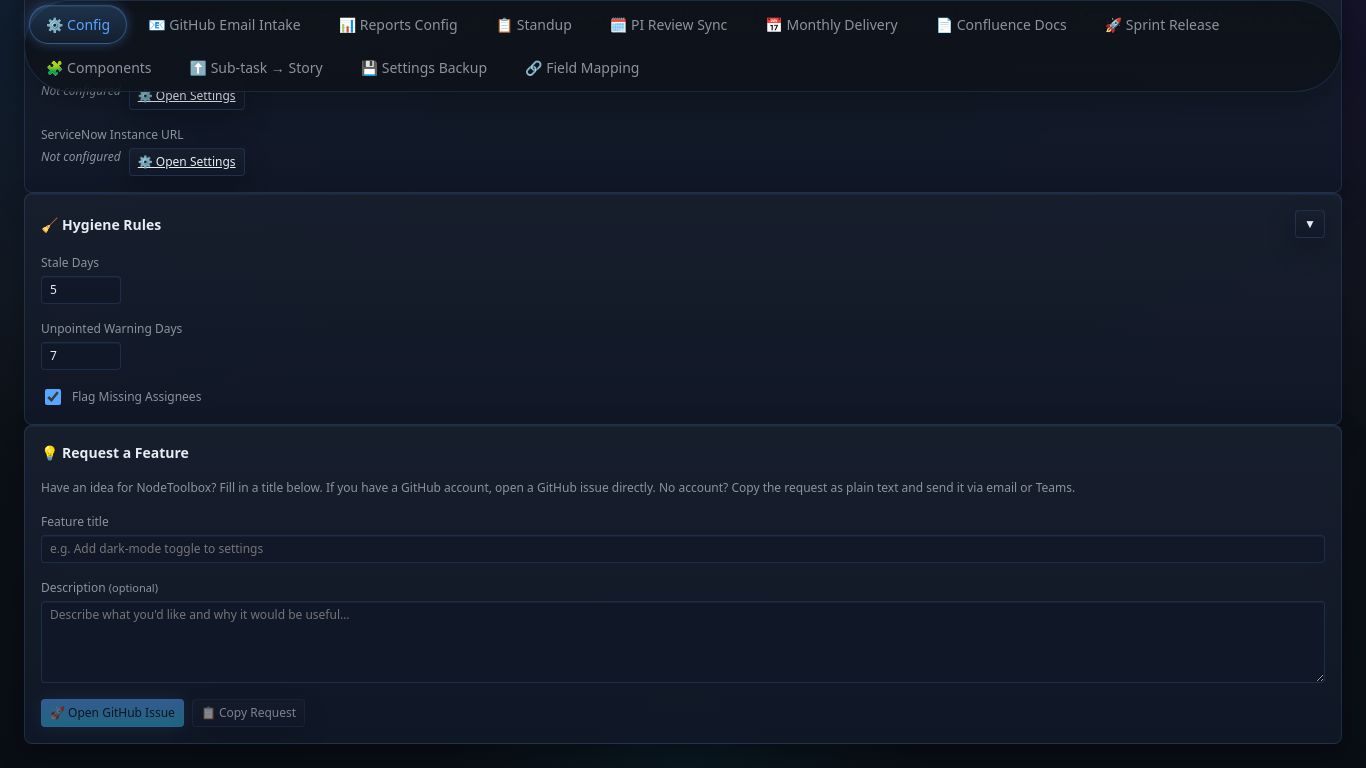
Scenario: Feature Request section › enables both buttons when the title has content
The image size is (1366, 768).
(page scrolled)
Type "Add dark mode" into the field labelled "Feature title" at [683, 549], box [41,535,1325,563]
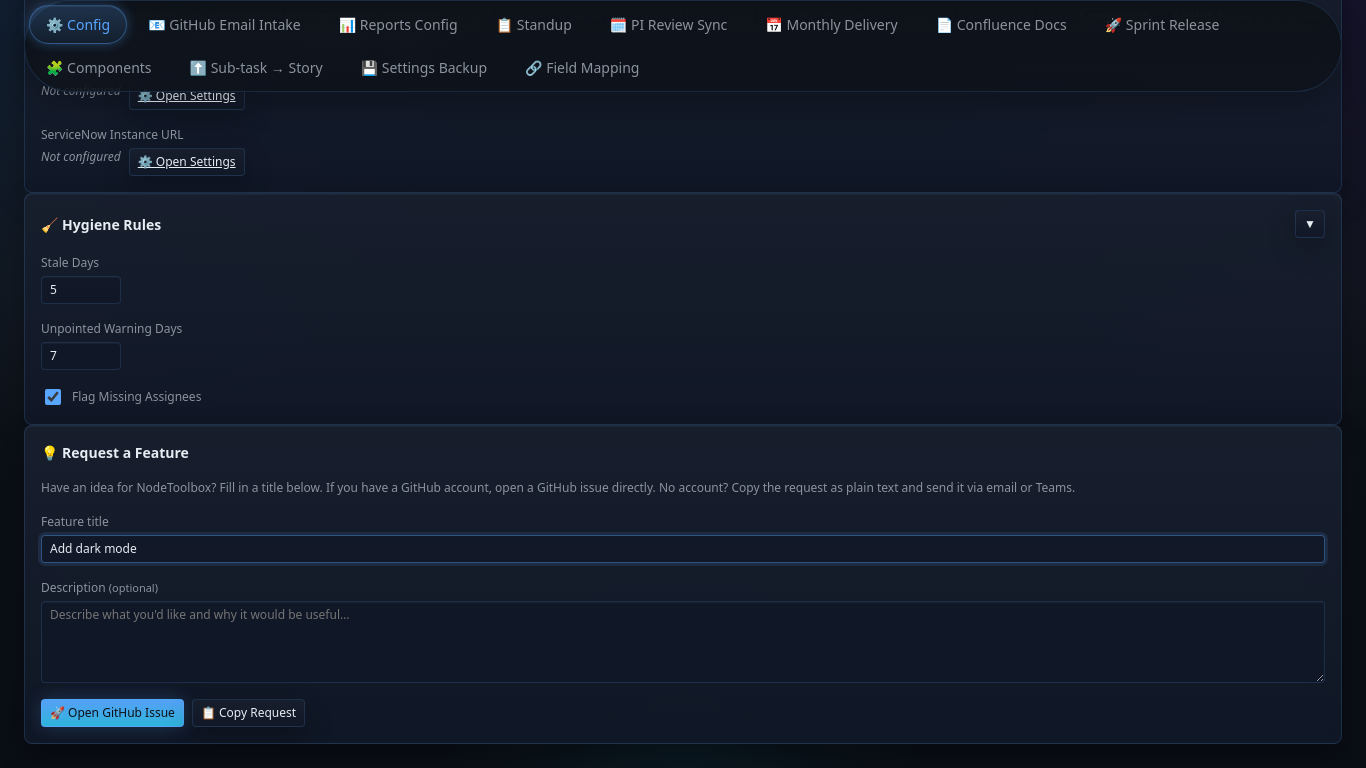
Check: the button "🚀 Open GitHub Issue" is enabled, box [41,699,184,727]
Check: the button "📋 Copy Request" is enabled, box [192,699,305,727]
